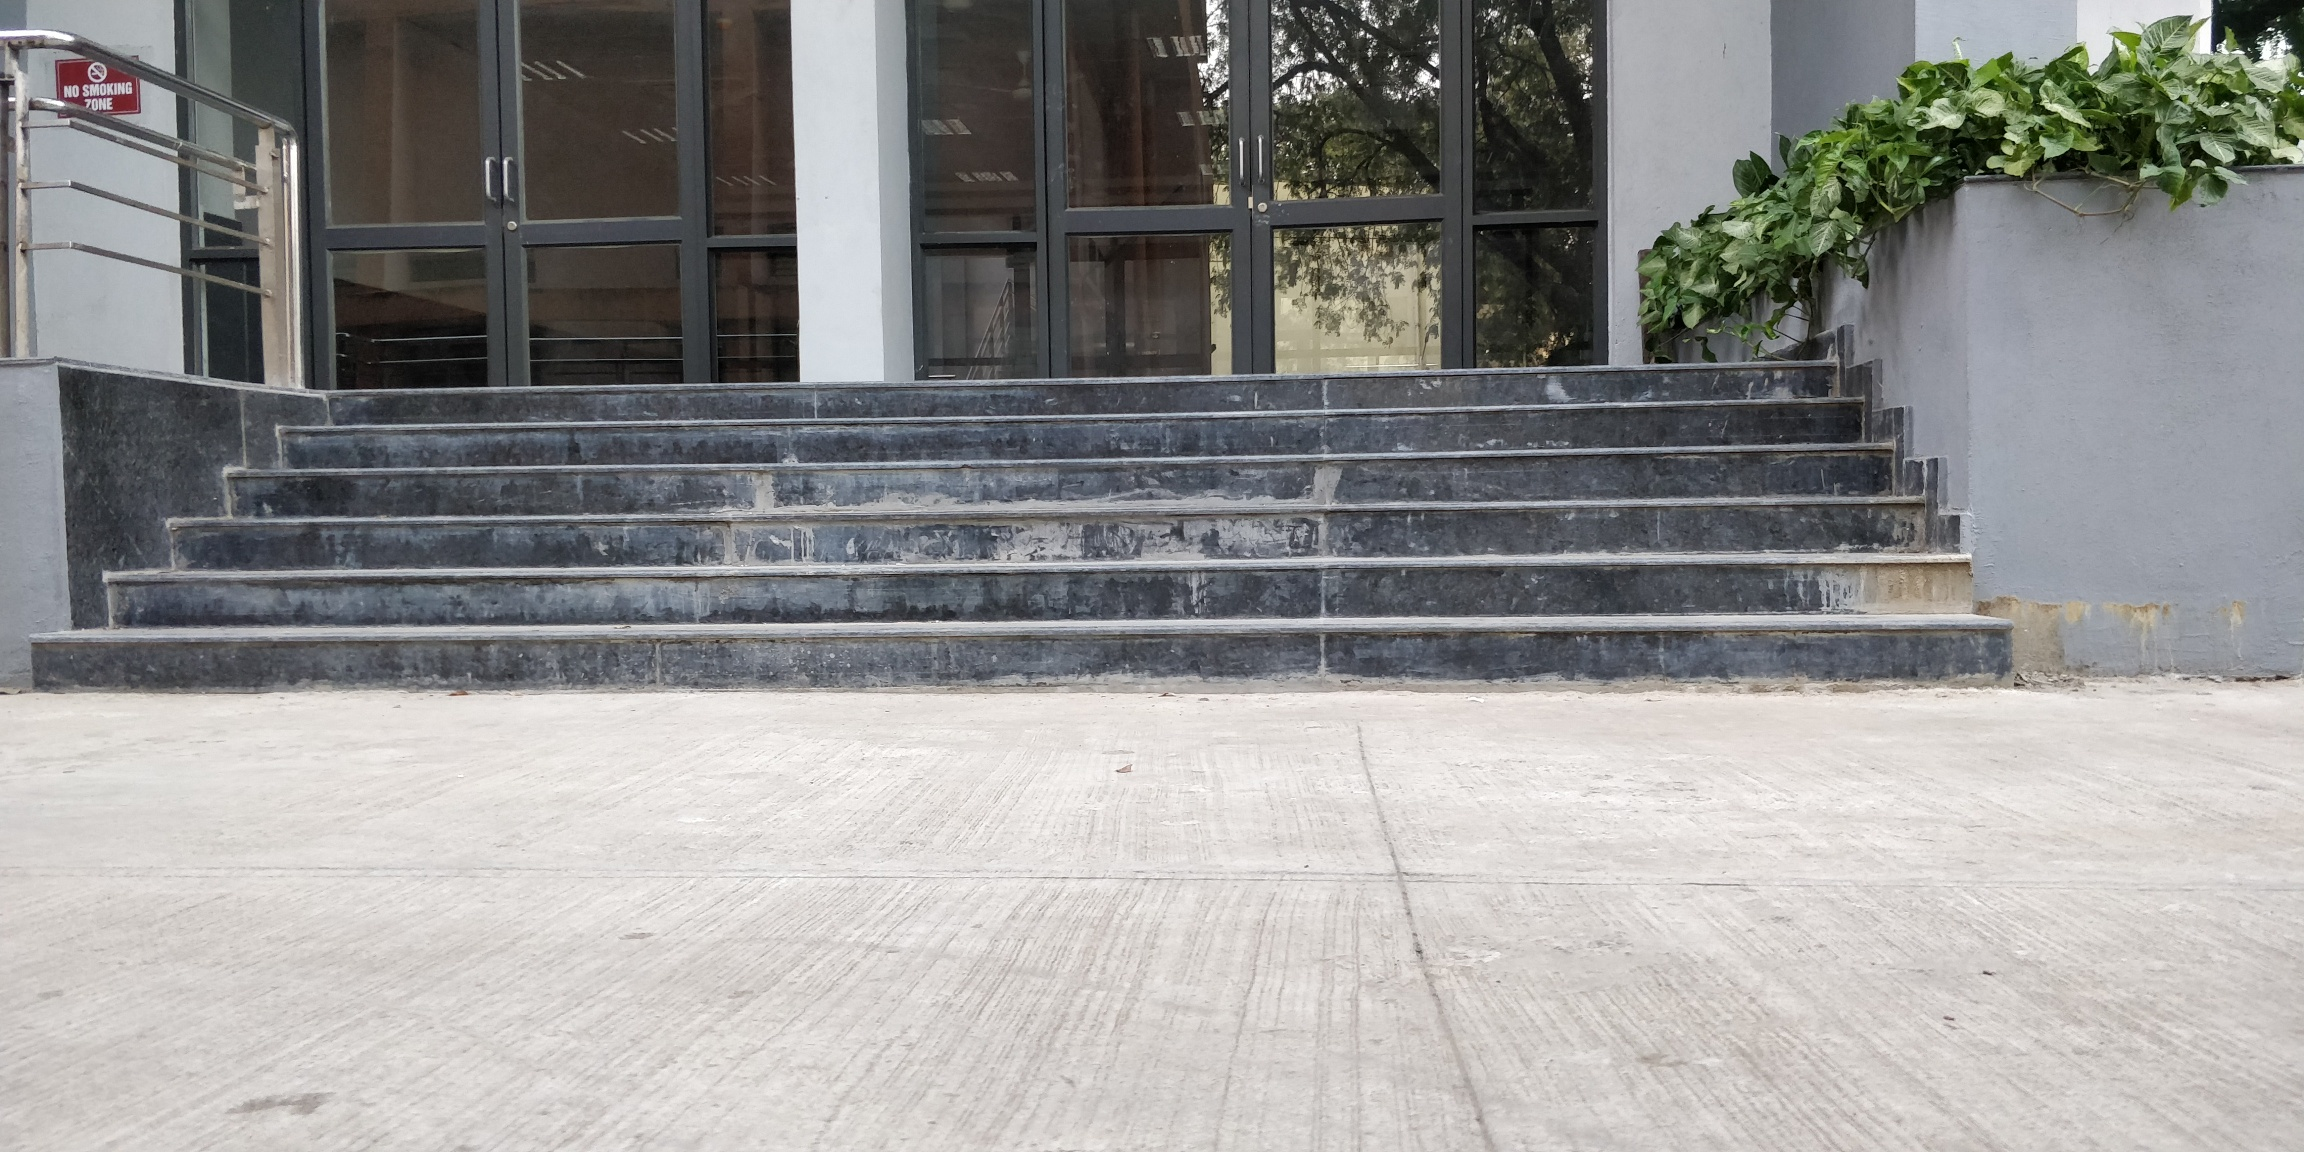stairs_up: (192, 385, 1982, 721)
